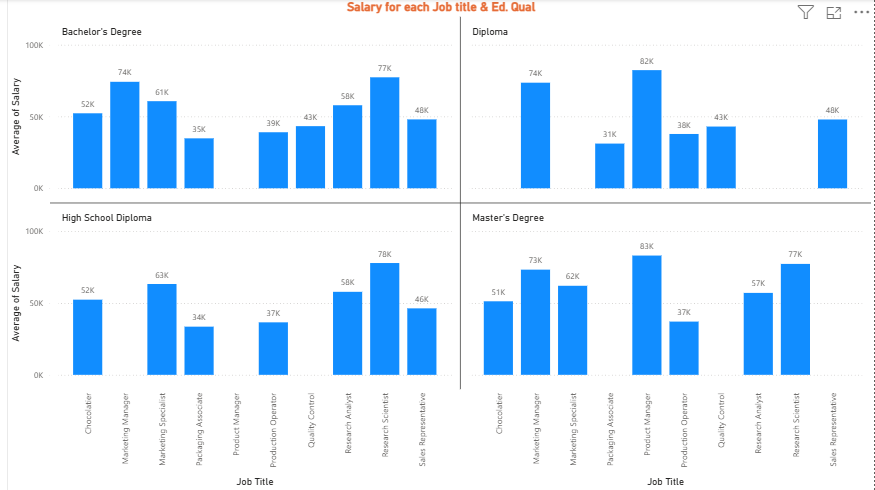

Layout of this report page (visuals, bound fields, positions):
{"tool":"powerbi","page":{"name":"HR Data Analysis-2","canvas":[1280,720],"ordinal":2},"visuals":[{"type":"columnChart","title":"Salary for each Job title & Ed. Qual","fields":{"Y":["Avg(HR_Data.Salary)"],"Category":["HR_Data.Job Title"],"Rows":["HR_Data.Ed.Qual."]},"box":[9.8,0,1270.5,720.2],"z":0}]}

Visuals, with their boxes on the page's 1280x720 design canvas (x1, y1, x2, y2). These are canvas units, not pixel positions in the 875x490 screenshot, which may show the page scaled, cropped or inside an application window:
"Salary for each Job title & Ed. Qual" columnChart: left=10, top=0, right=1280, bottom=720
